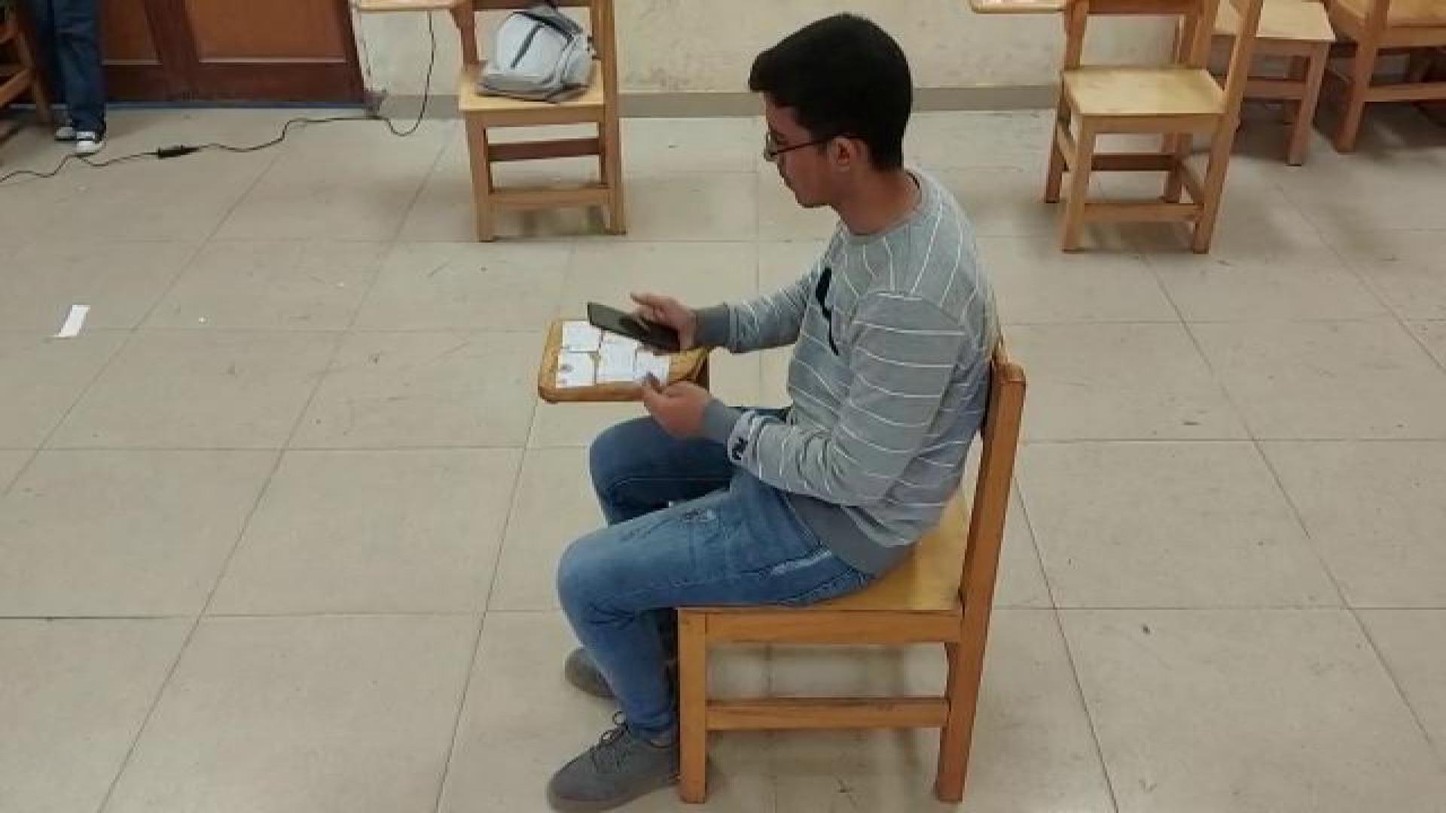phone: (583, 295, 680, 351)
